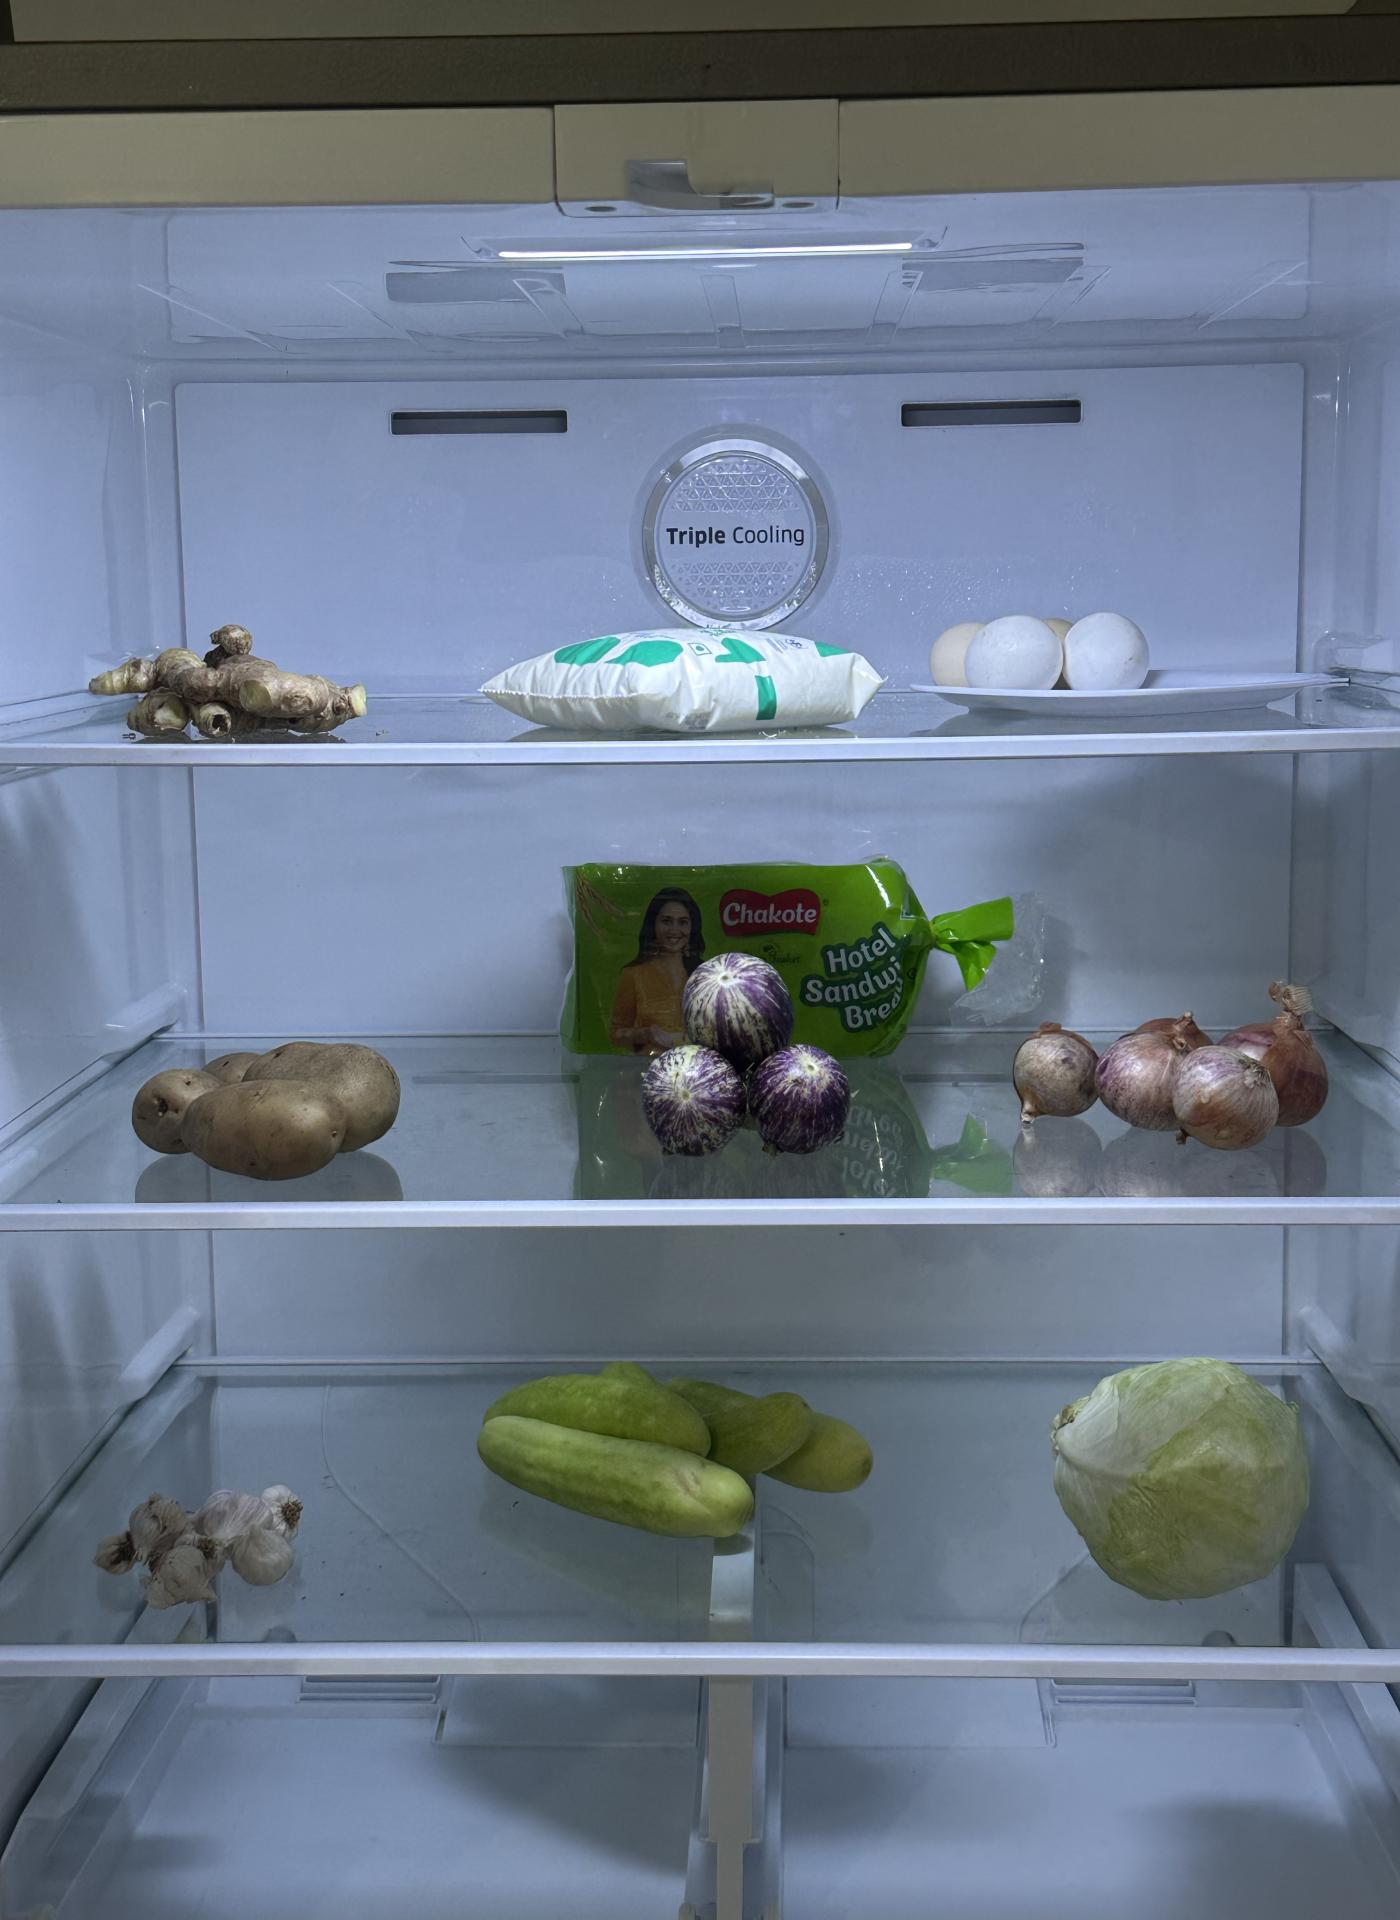bread: (558, 848, 935, 1039)
brinjal: (646, 950, 853, 1166)
cabbage: (1056, 1354, 1319, 1602)
cucumber: (471, 1352, 874, 1535)
egg: (935, 605, 1161, 702)
garlic: (101, 1470, 315, 1607)
ginger: (95, 619, 370, 744)
milk: (485, 617, 892, 738)
onion: (1014, 1000, 1336, 1154)
potato: (131, 1035, 407, 1182)
